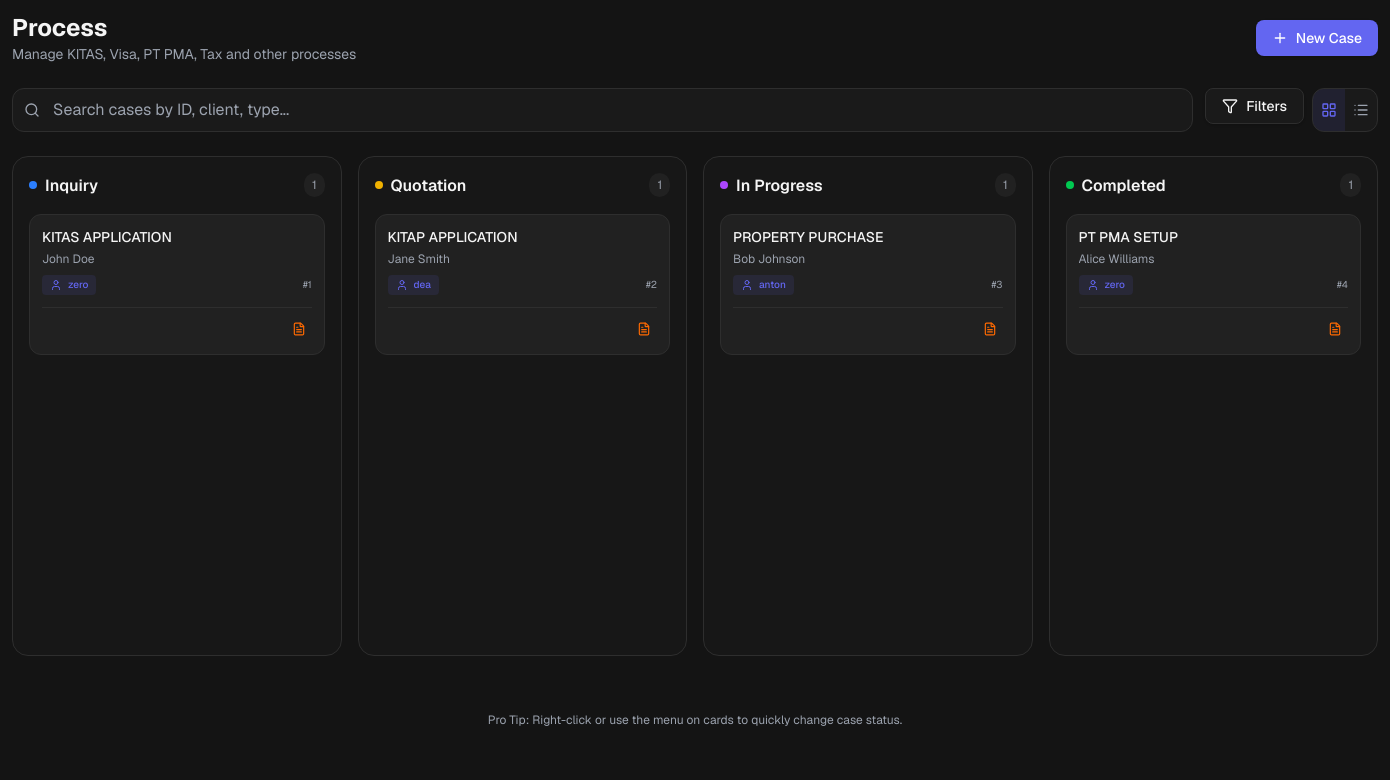
Scenario: Cases Page › Search Functionality › should filter cases by practice type
The image size is (1390, 780).
Expected: the text "John Doe" is shown, [42, 251, 94, 267]
Step 1. Type "kitas" into the field with placeholder "Search cases by ID, client, type..." → (603, 110), box [12, 88, 1193, 132]
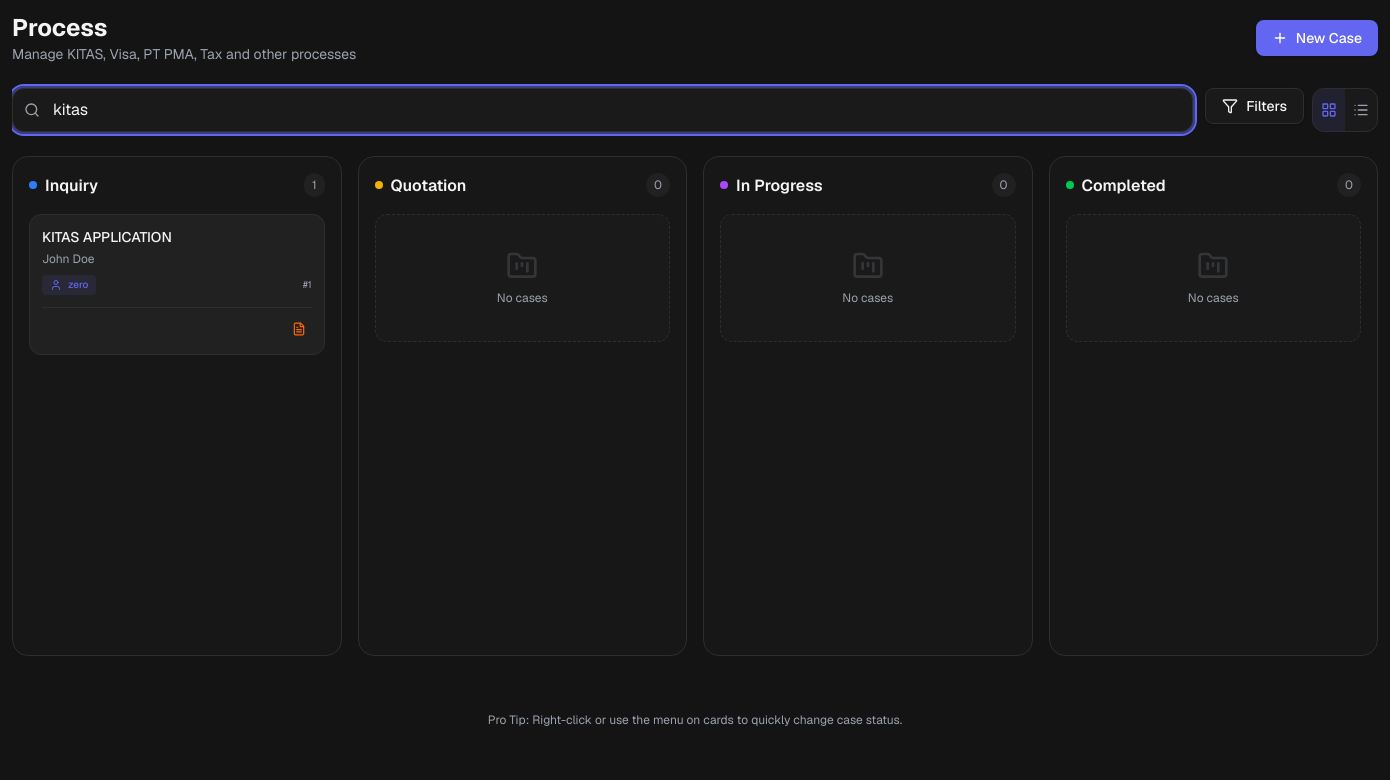
Expected: the text "John Doe" is shown, [42, 251, 94, 267]
Result: the text "Bob Johnson" is gone
